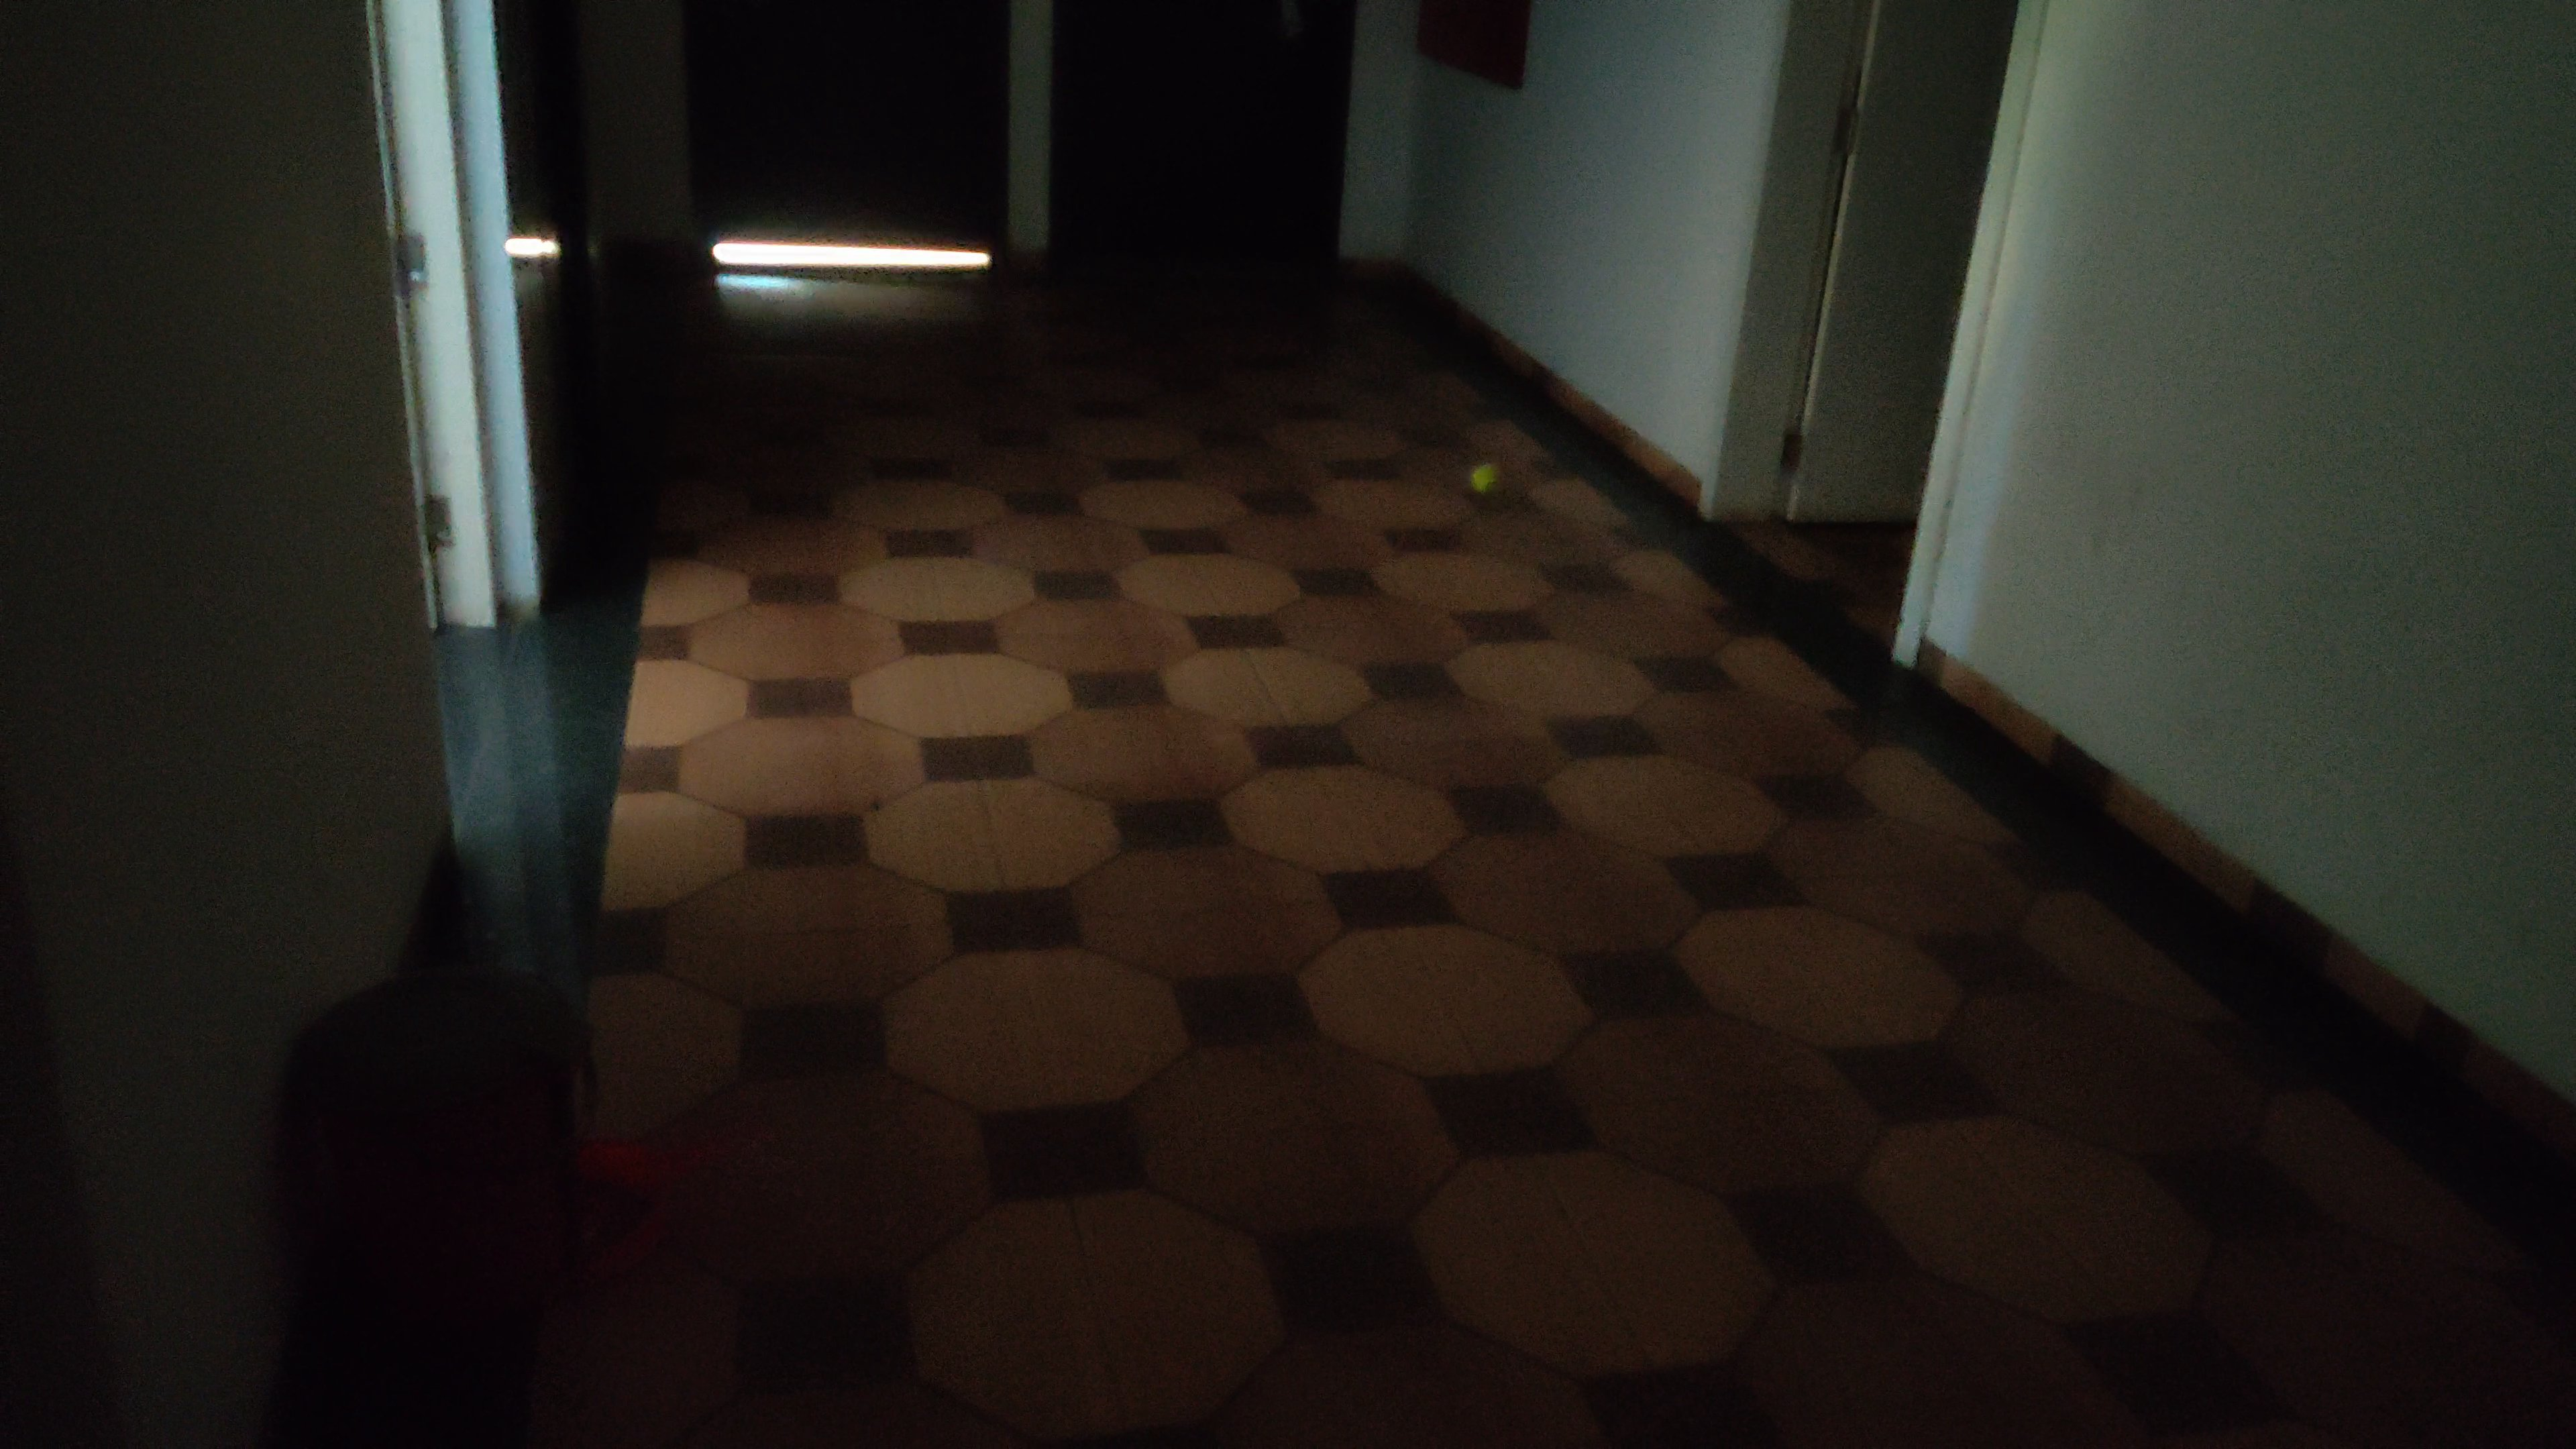Tennis-Ball: (1472, 464, 1500, 494)
